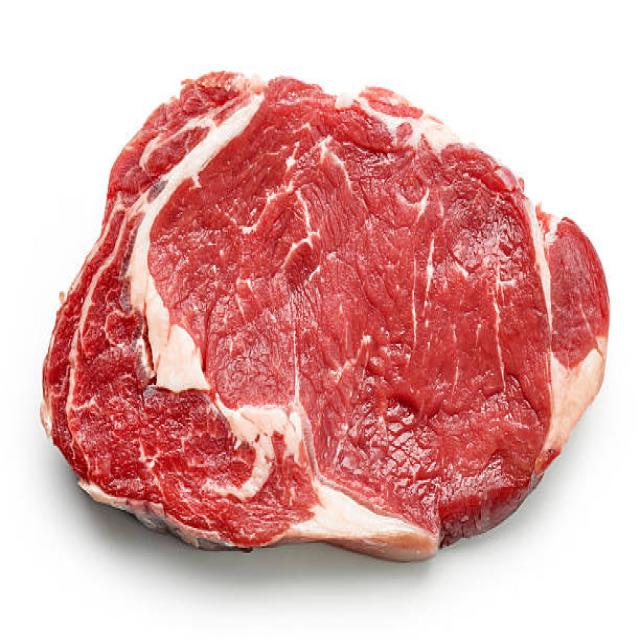beef: (41, 72, 611, 561)
